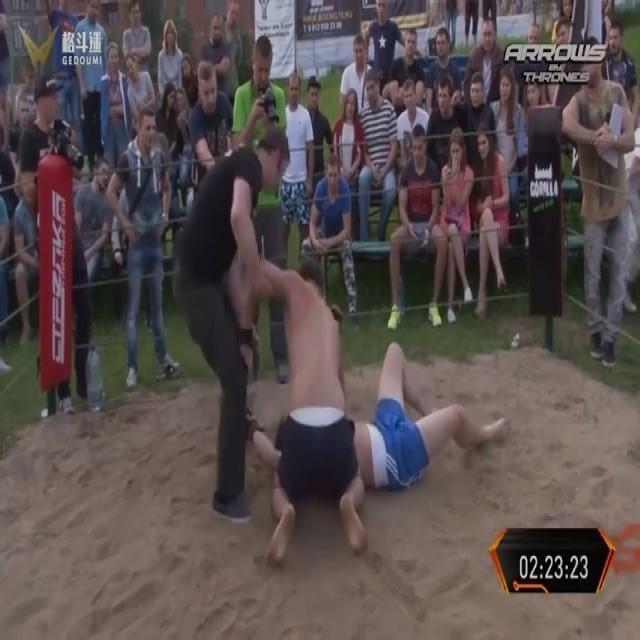fight: (247, 246, 434, 574)
non-fight: (165, 129, 289, 525), (562, 16, 639, 367), (114, 102, 176, 386), (384, 120, 446, 333), (469, 117, 511, 315), (65, 0, 109, 167), (332, 87, 366, 256)
